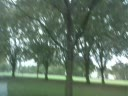window: (3, 3, 66, 96)
